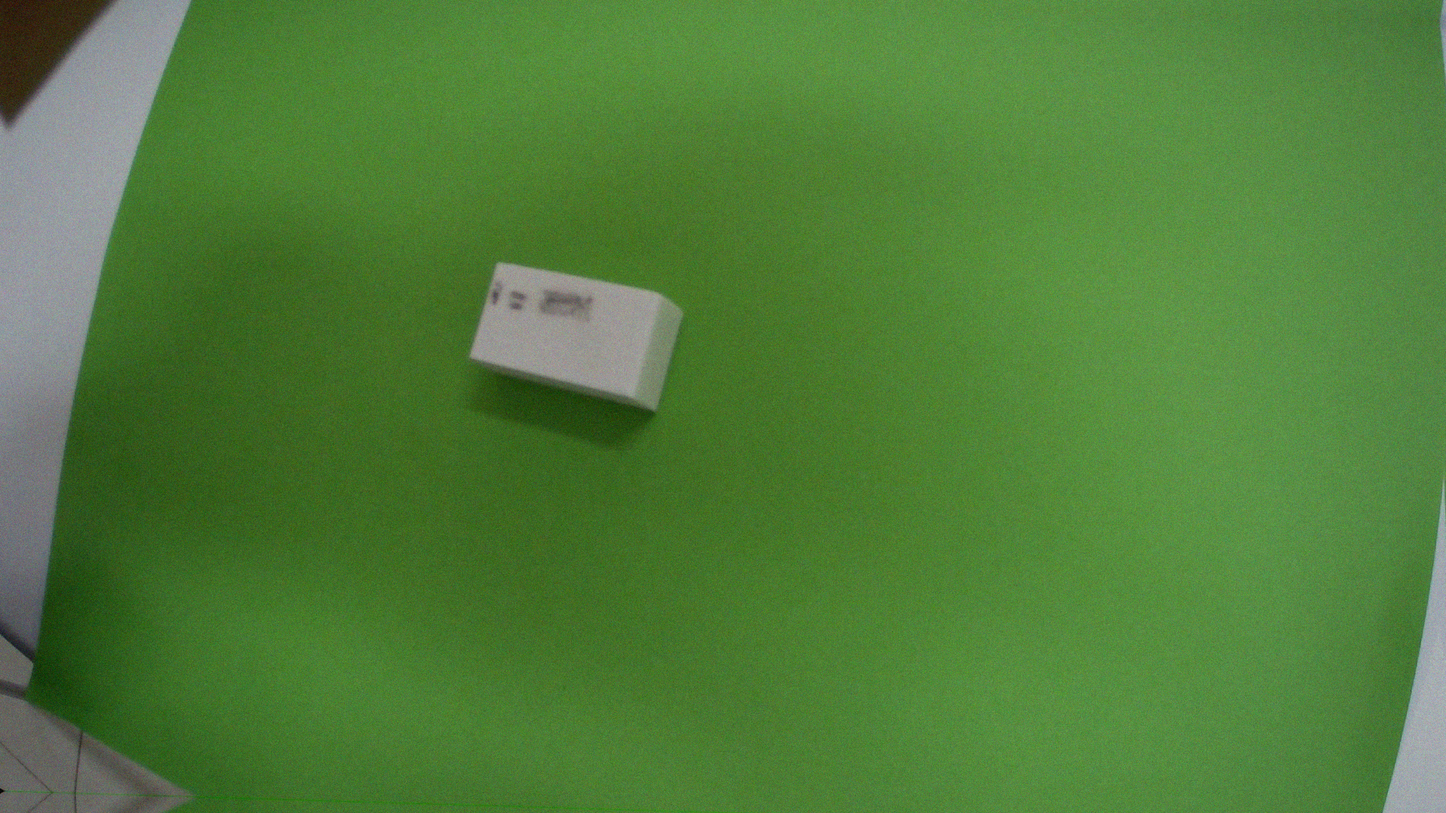gom: (470, 253, 682, 419)
